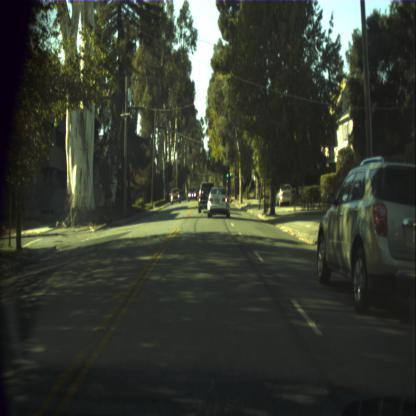Green: (208, 152, 210, 160), (225, 172, 228, 177), (230, 172, 232, 176)
